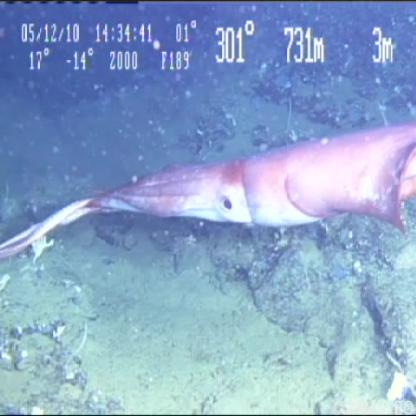Bio: (1, 118, 416, 262)
